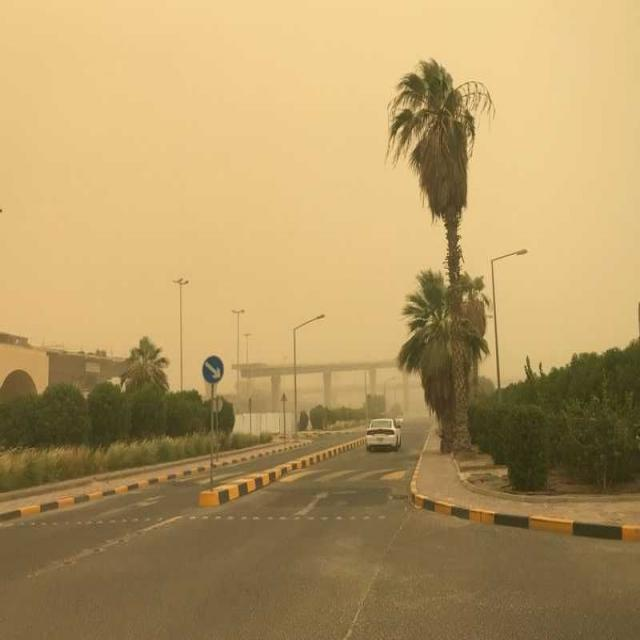Speed Bump: (281, 467, 415, 482)
